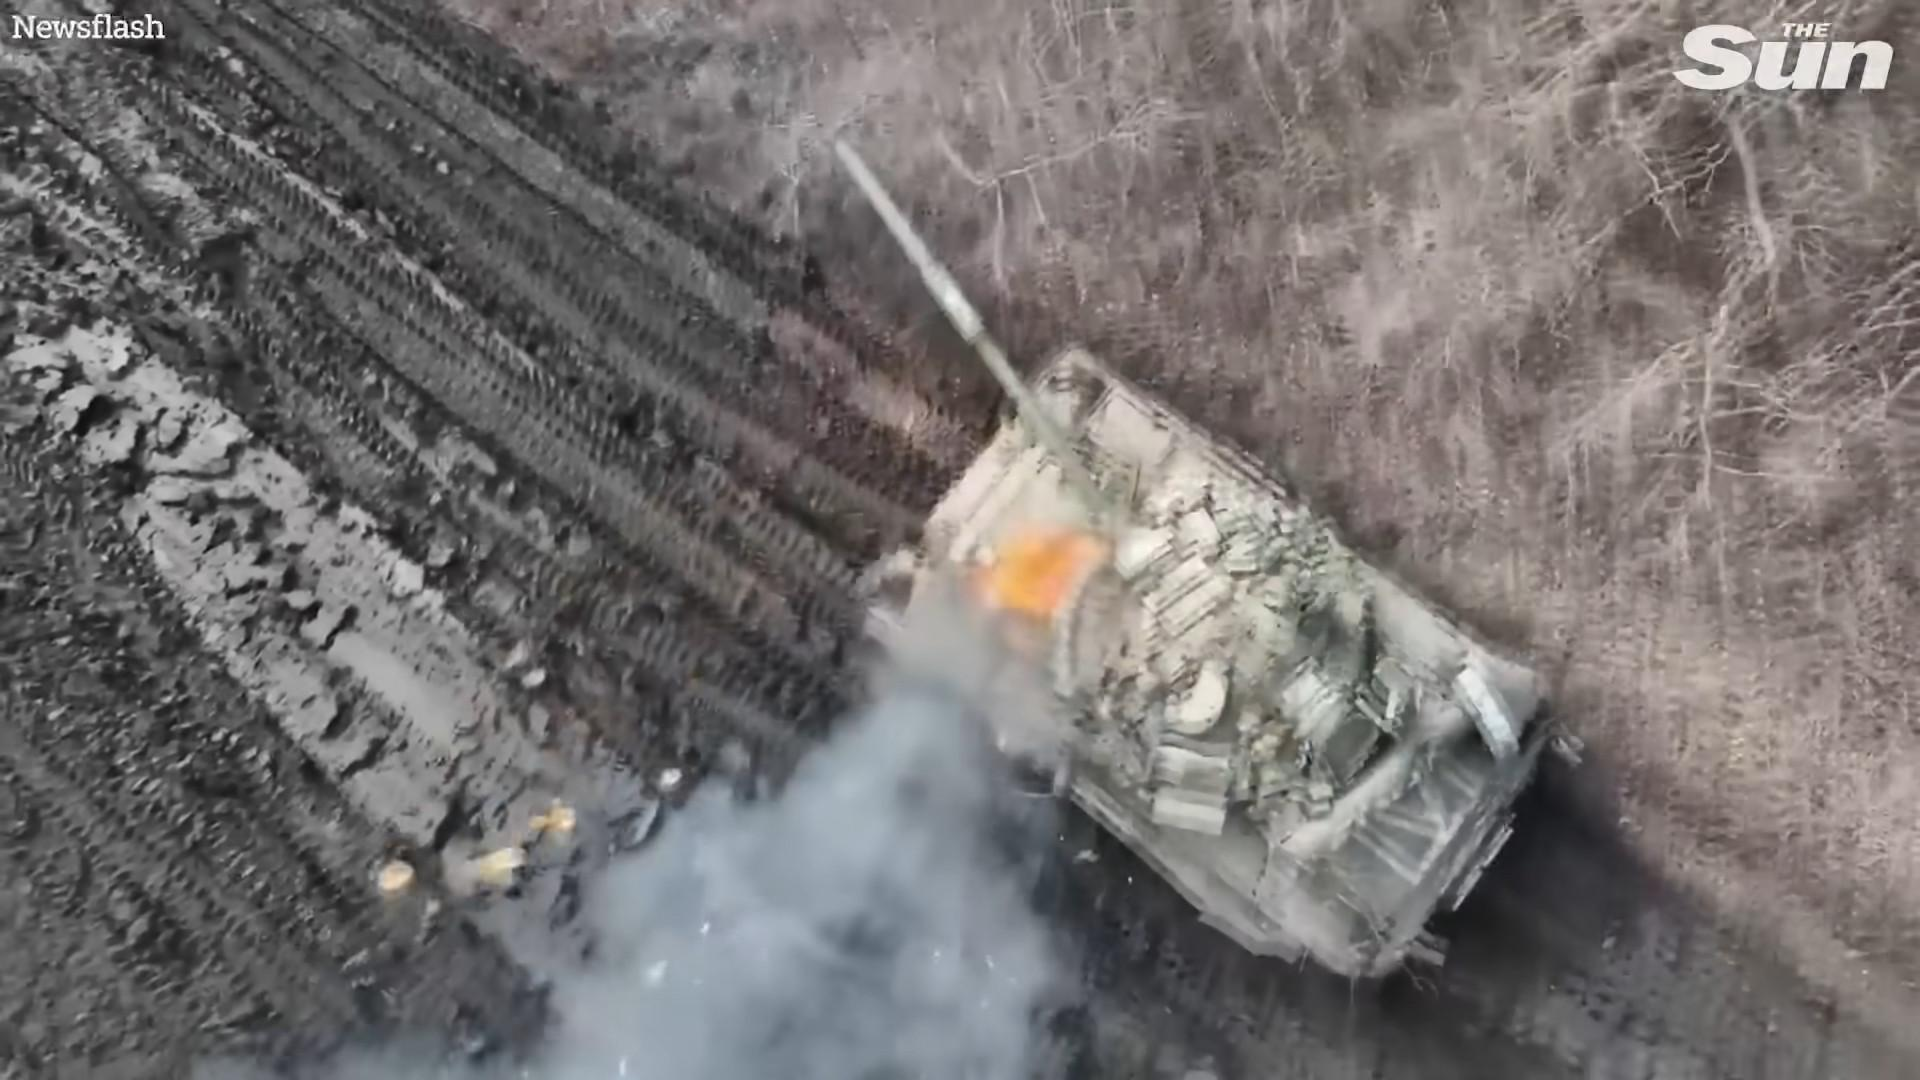tank: (836, 138, 1561, 976)
